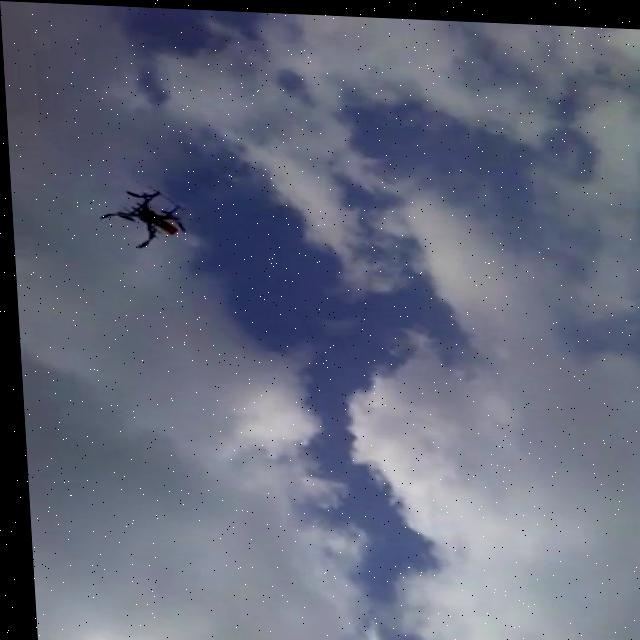drone: (92, 181, 187, 252)
